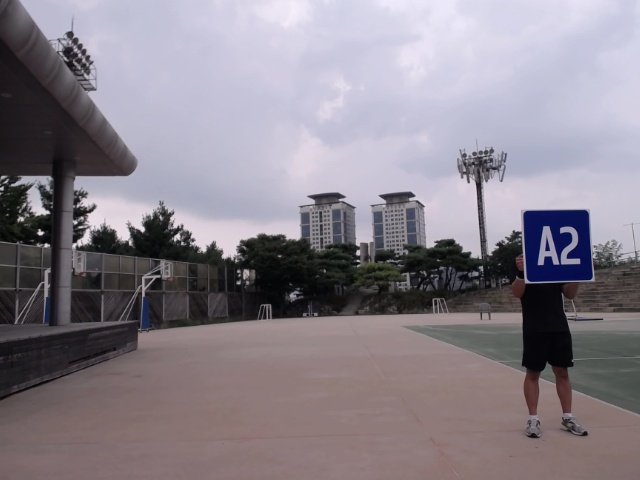delivery_a2: (523, 208, 594, 282)
